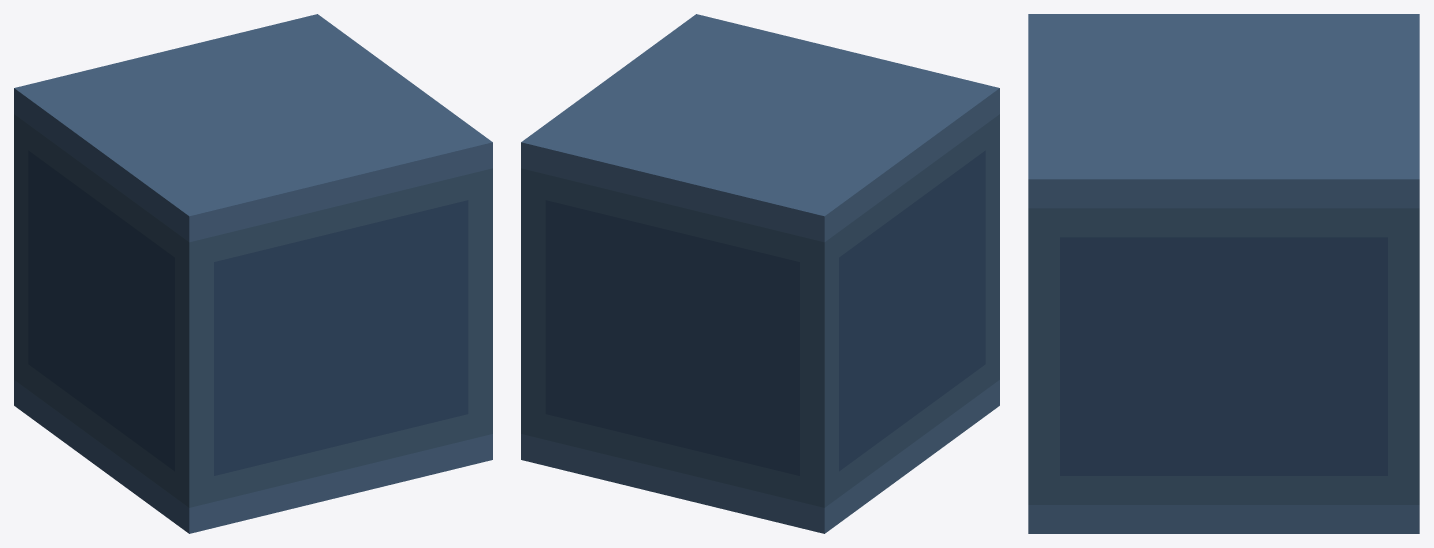
The model's file is WallTile.fbx.
3 renders of one model, left to right at view 1: azimuth 30°, elevation 25°; view 2: azimuth 150°, elevation 25°; view 3: azimuth 270°, elevation 25°, orthographic. The views are drawn at different scales.
Visible parts, largest first — view 1: WallTile; view 2: WallTile; view 3: WallTile.
Part boxes in pixels (x1=…): WallTile: x1=14, y1=14, x2=492, y2=533; WallTile: x1=521, y1=14, x2=999, y2=533; WallTile: x1=1028, y1=14, x2=1419, y2=533.
Bounding box in the file's own units: 100 × 100 × 100.
